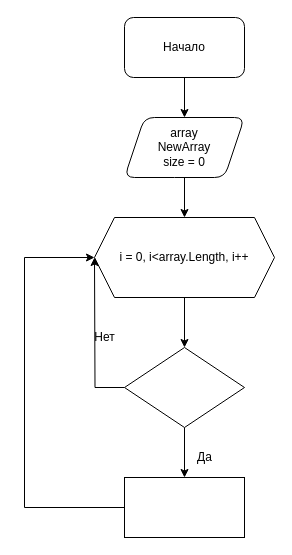
Image size: 292x555. Some labels were removed from this diagram. The shapes that lost their labels are listed below. From the top down, each one's box as (x1, y1, x2, y2) in pixels, then its label:
(124, 346, 244, 428): array[i].Length<=3
(124, 476, 244, 538): NewArray[size] = array[i]; size++;
